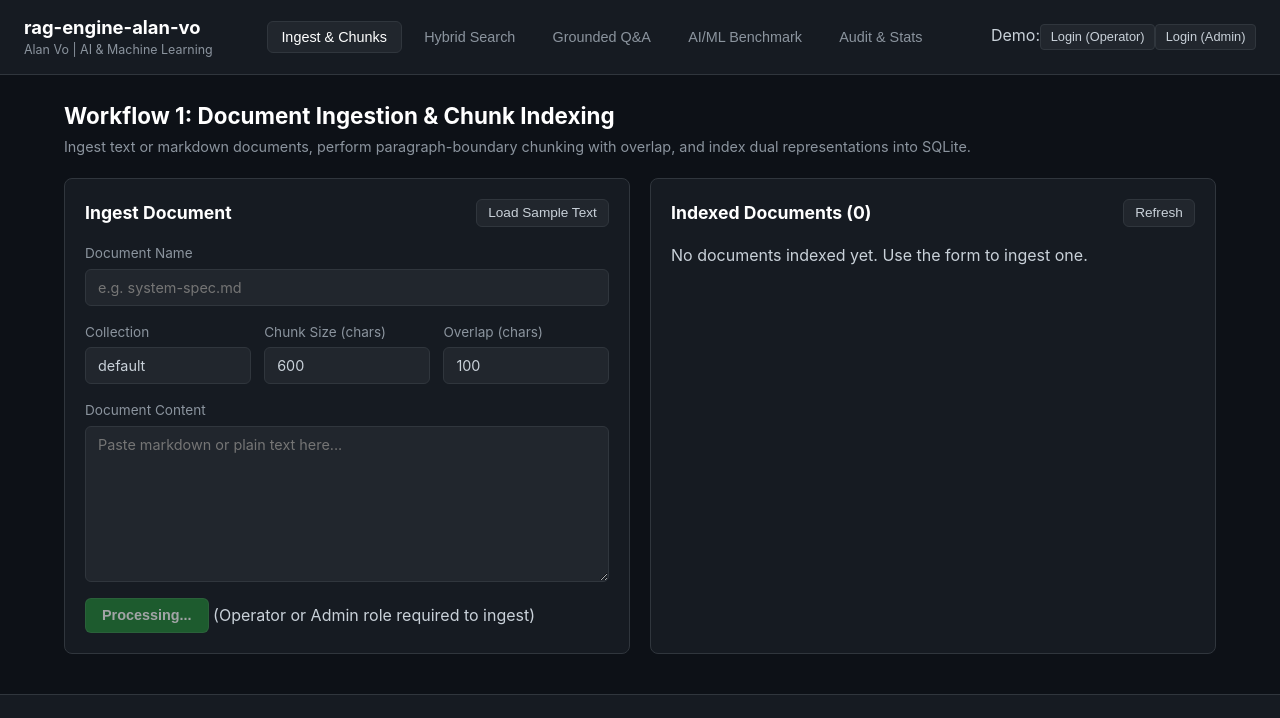
Test: App Navigation and Workflows › switches to Hybrid Search workbench when tab is clicked
The image size is (1280, 718).
Click the button "Hybrid Search" at (470, 37), box [410,21,530,53]
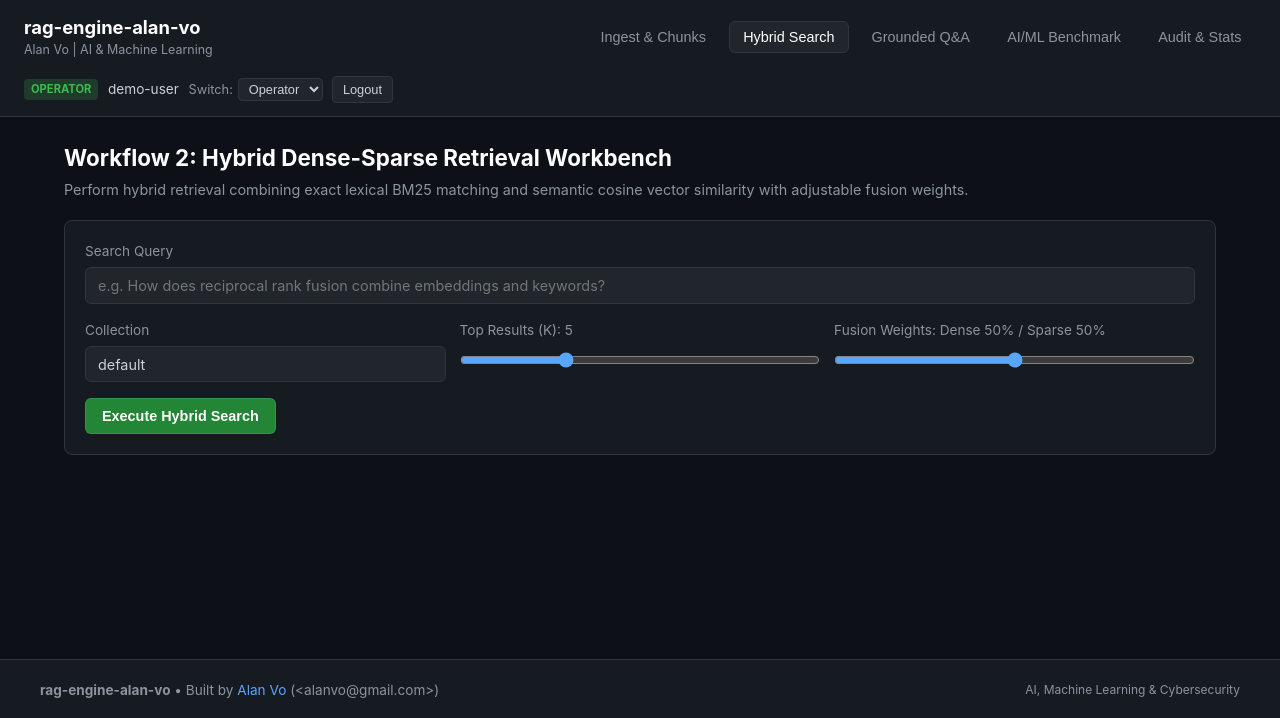
Check: the heading "Workflow 2: Hybrid Dense-Sparse Retrieval Workbench" is shown, box [64,144,672,171]
